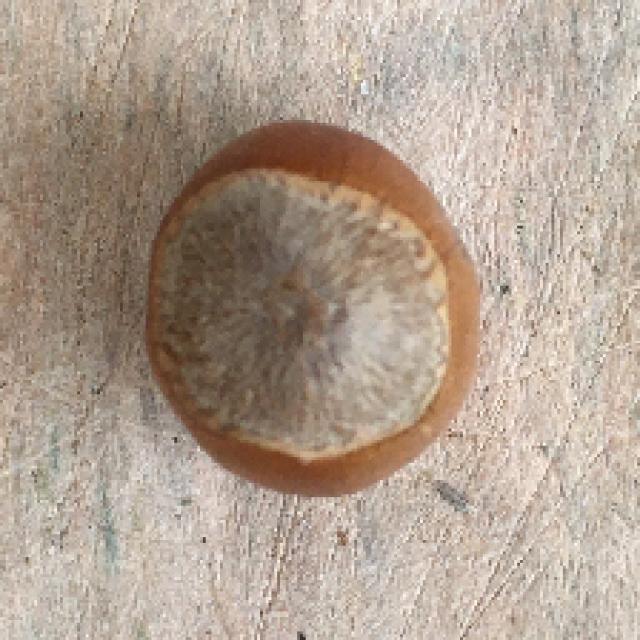qualityHazelnut: (136, 117, 484, 503)
